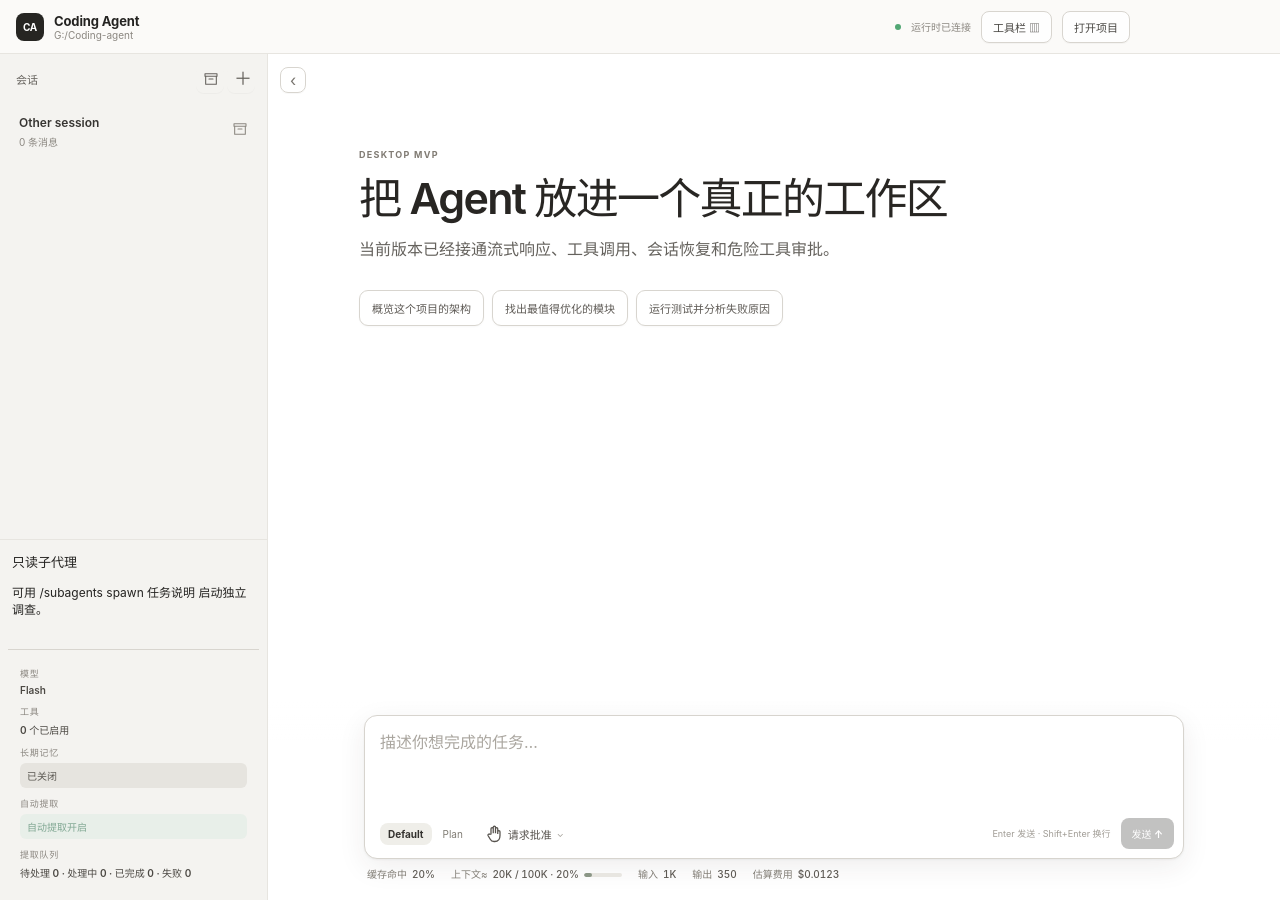
desktop authoritative session usage › ignores a delayed /session resolve after switching sessions
The width and height of the screenshot is (1280, 900).
Type "/session" into the text box with placeholder "描述你想完成的任务…" at (774, 762), box [365, 716, 1183, 807]
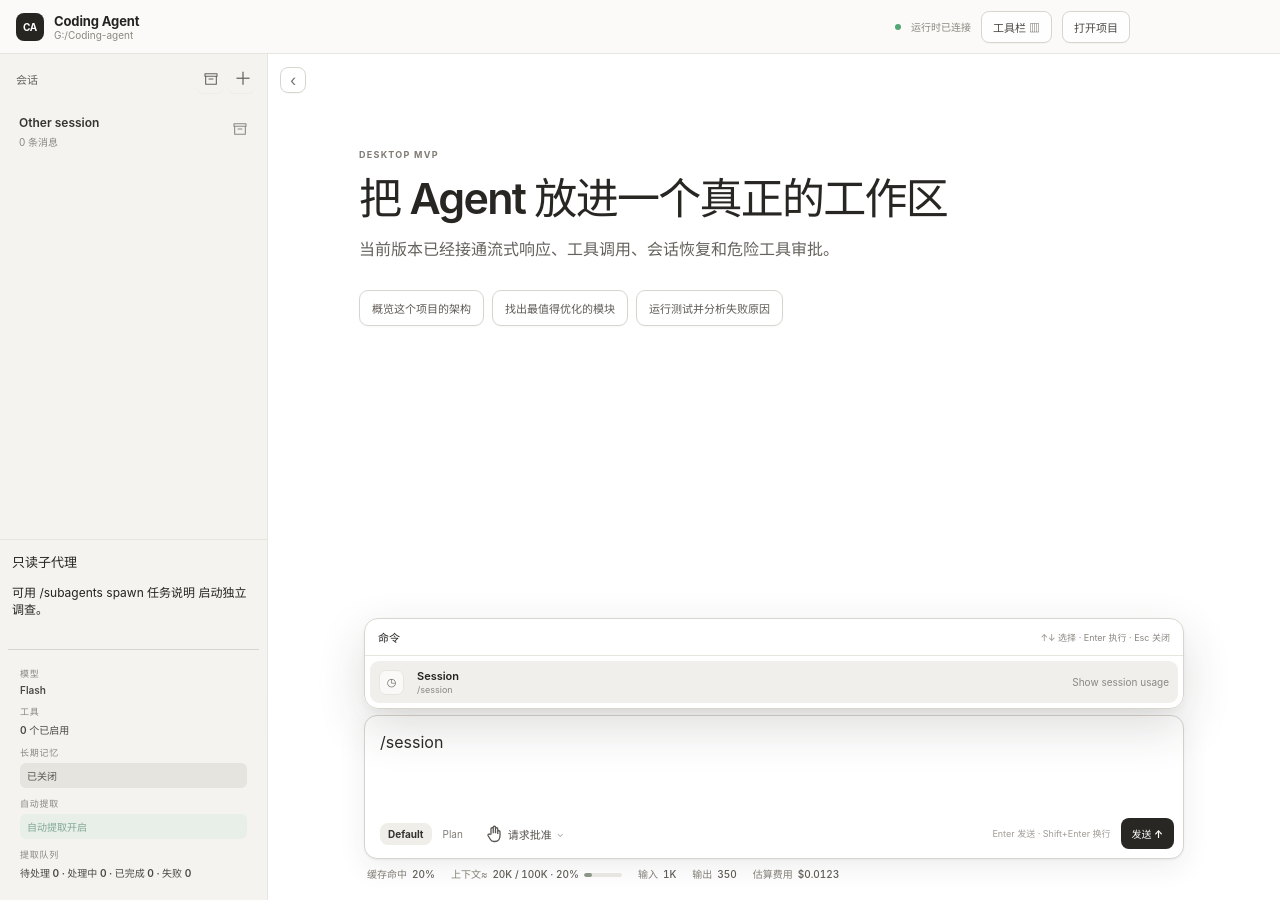
Submit the form with placeholder "描述你想完成的任务…", box [364, 715, 1184, 859]
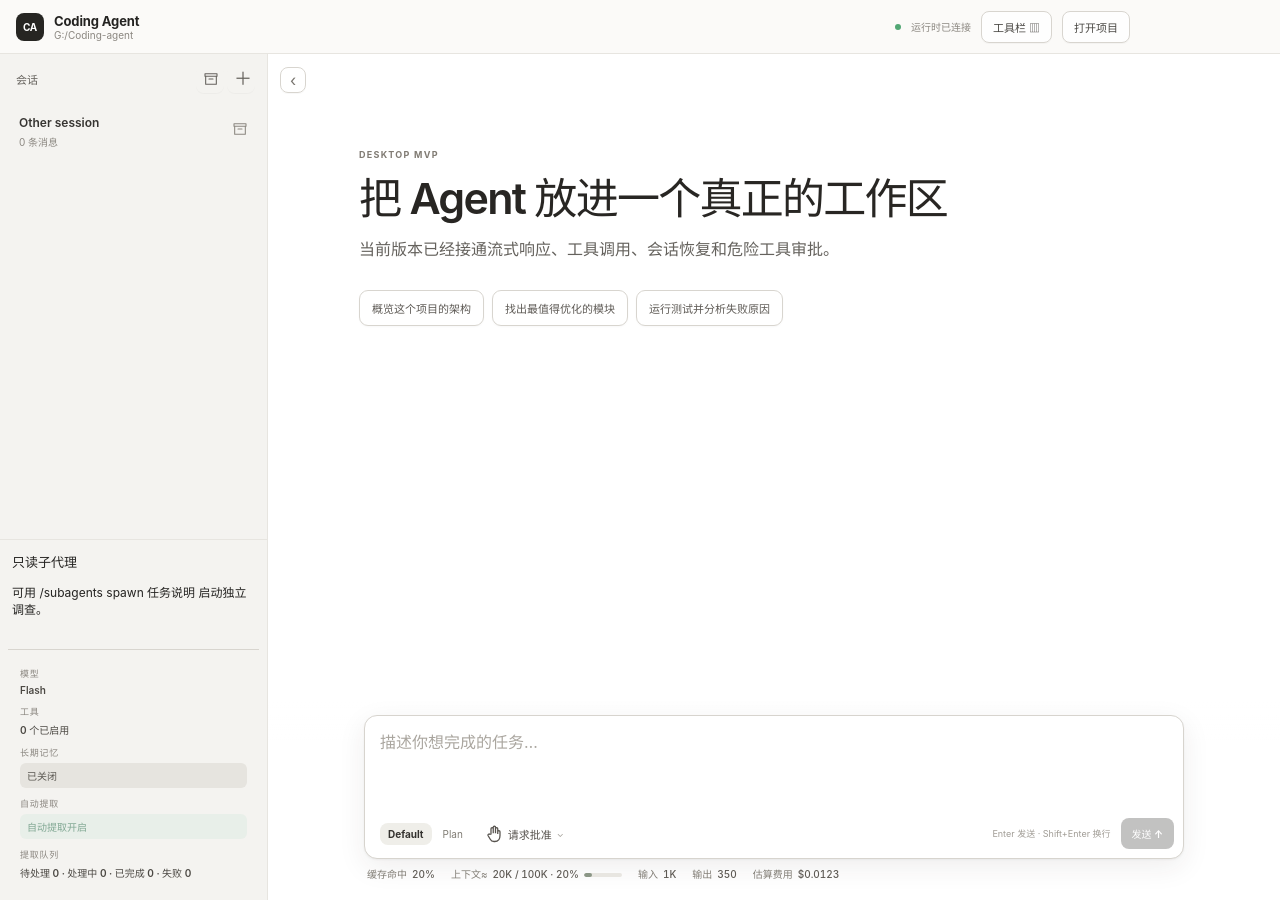
Click the button "Other session 0 条消息" at (134, 132), box [8, 105, 259, 159]
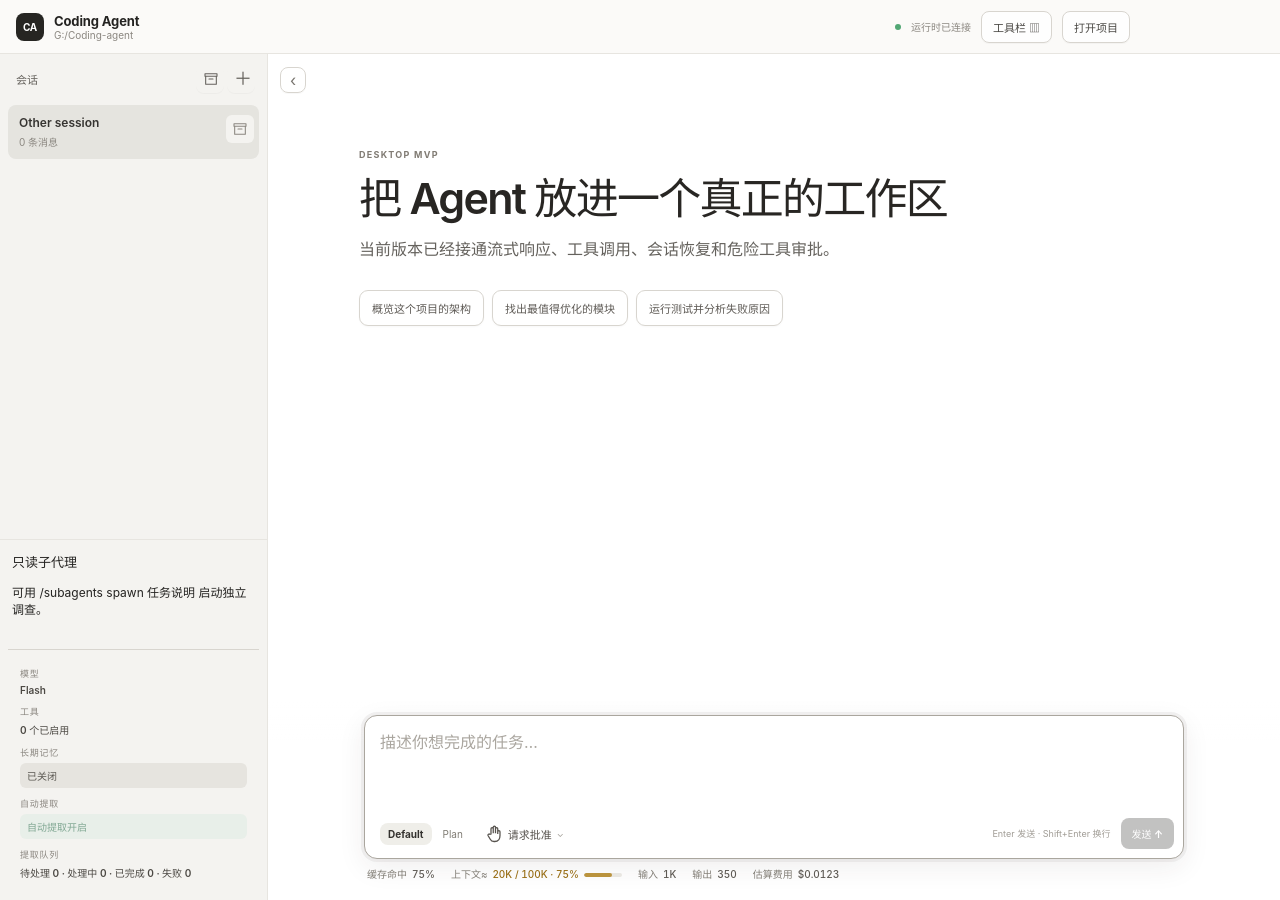
Now the text with test id "cache-hit-rate" reads "75%", box [412, 868, 435, 880]
